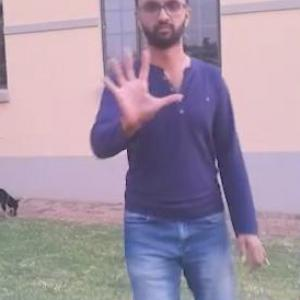follow_hand: (100, 40, 184, 126)
